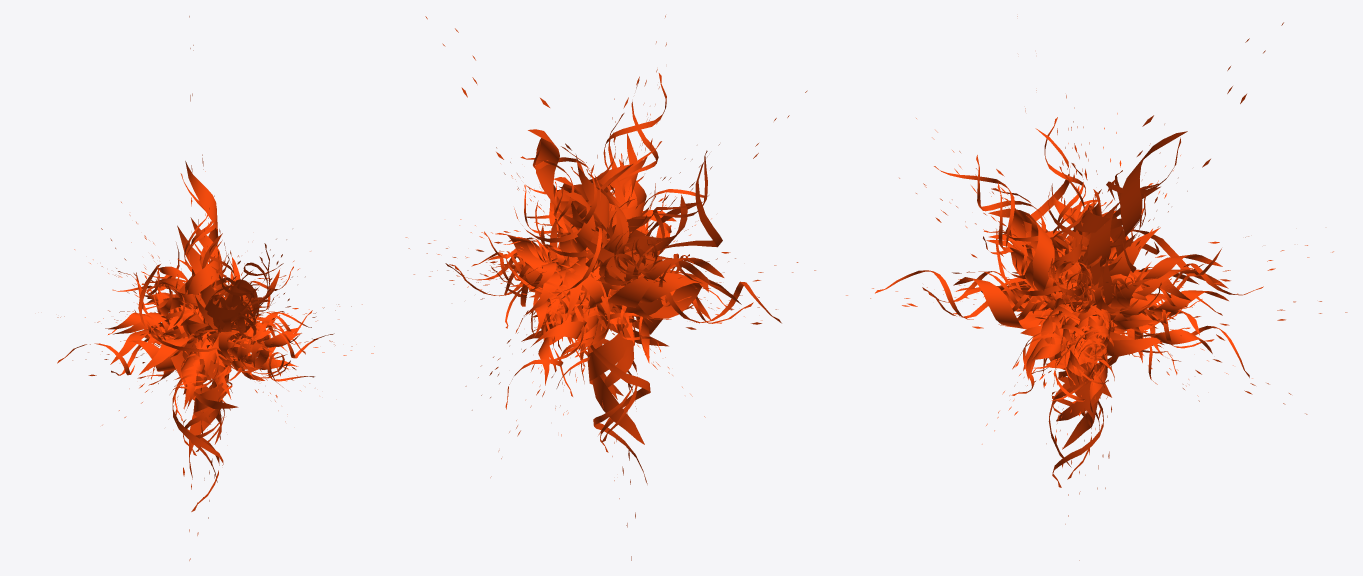
Rendered from fireball_10.obj.
The picture shows the model from 3 angles, left to right: view 1: azimuth 30°, elevation 25°; view 2: azimuth 150°, elevation 25°; view 3: azimuth 270°, elevation 25°; orthographic projection. The views are drawn at different scales.
Visible parts, largest first — view 1: Fireball; view 2: Fireball; view 3: Fireball.
Part boxes in pixels (x1,y1,x2,y2): Fireball: (57,16,374,560); Fireball: (405,15,815,560); Fireball: (846,16,1347,560).
Bounding box in the file's own units: 1.72 × 2.28 × 1.76.
